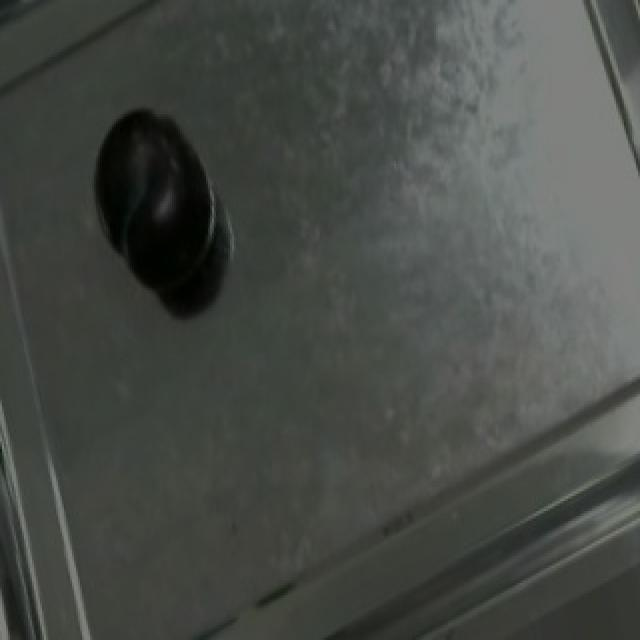Fruit: (72, 89, 224, 298)
